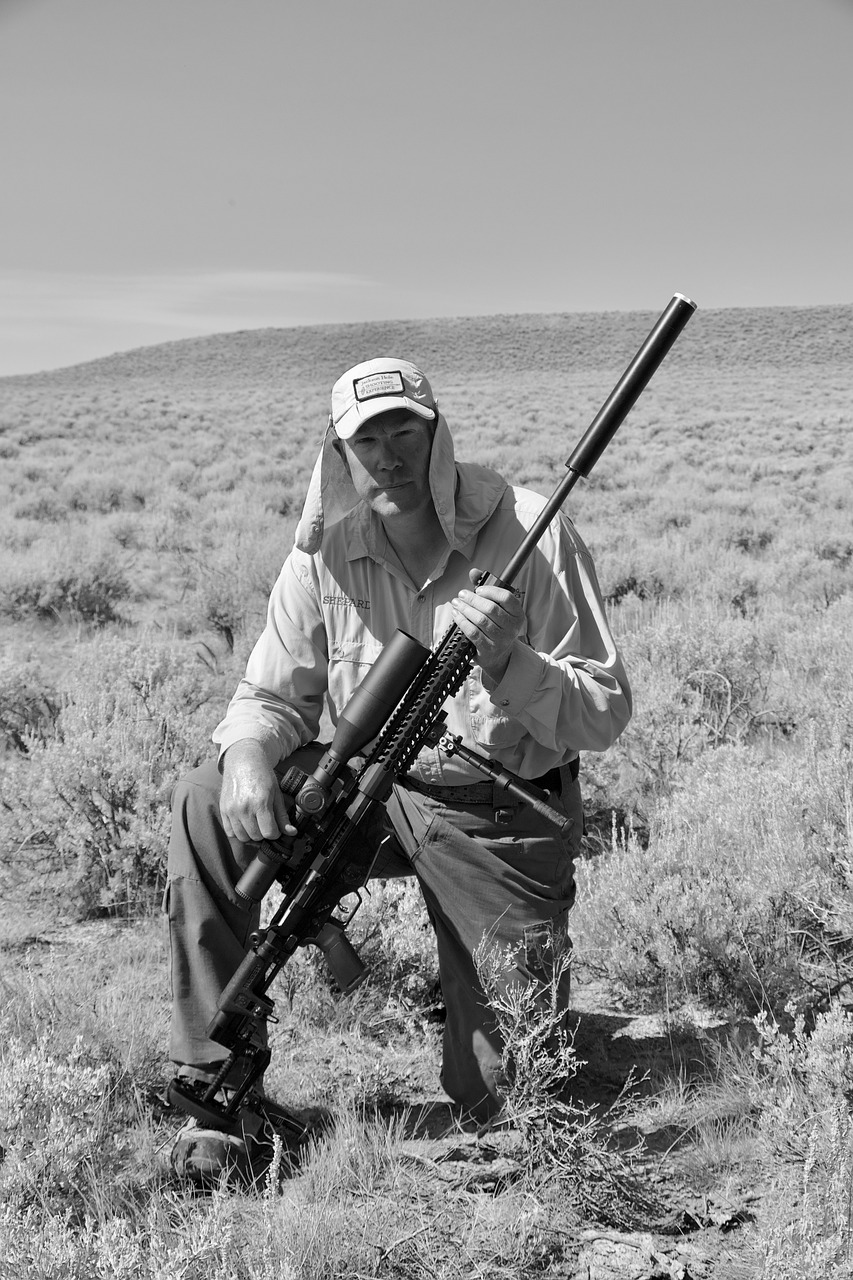gun: (160, 285, 704, 1144)
